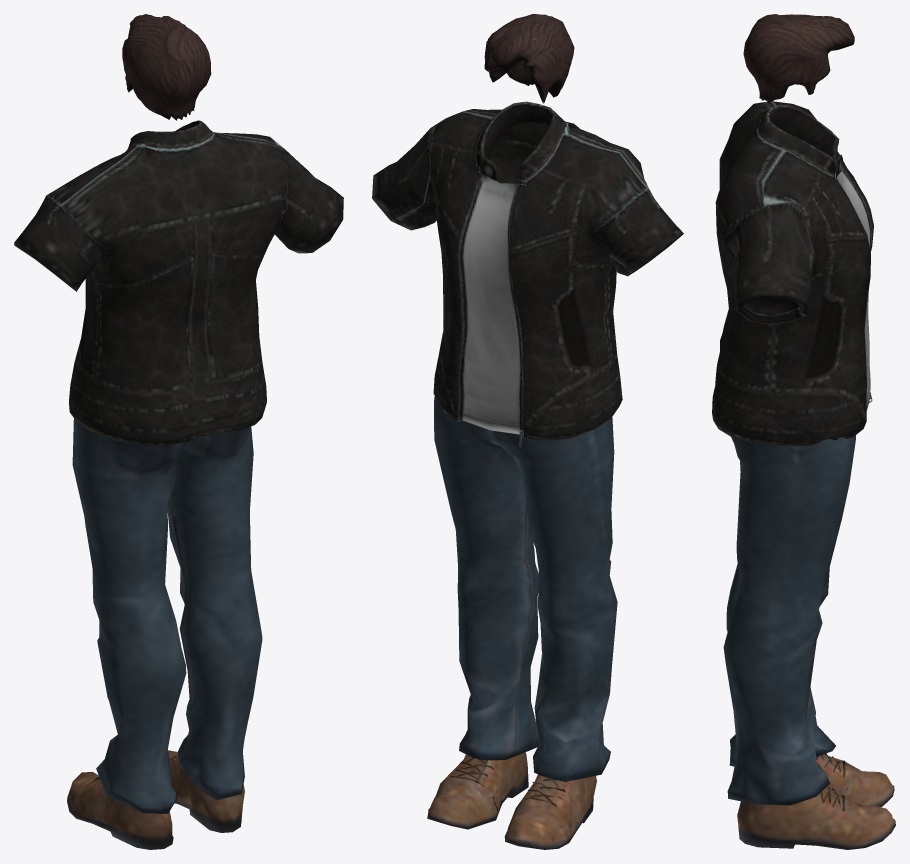
The model's file is 3RD CLOTH.fbx.
The picture shows the model from 3 angles, left to right: view 1: azimuth 30°, elevation 25°; view 2: azimuth 150°, elevation 25°; view 3: azimuth 270°, elevation 25°; orthographic projection.
Visible parts, largest first — view 1: 3RD CLOTH; view 2: 3RD CLOTH; view 3: 3RD CLOTH.
Boxes of the visible parts, left/top/right/bottom form: 3RD CLOTH: left=14, top=14, right=343, bottom=849; 3RD CLOTH: left=372, top=14, right=683, bottom=849; 3RD CLOTH: left=712, top=14, right=895, bottom=849.
Bounding box in the file's own units: 58.5 × 145 × 29.99.
1 material, 1 textured.
